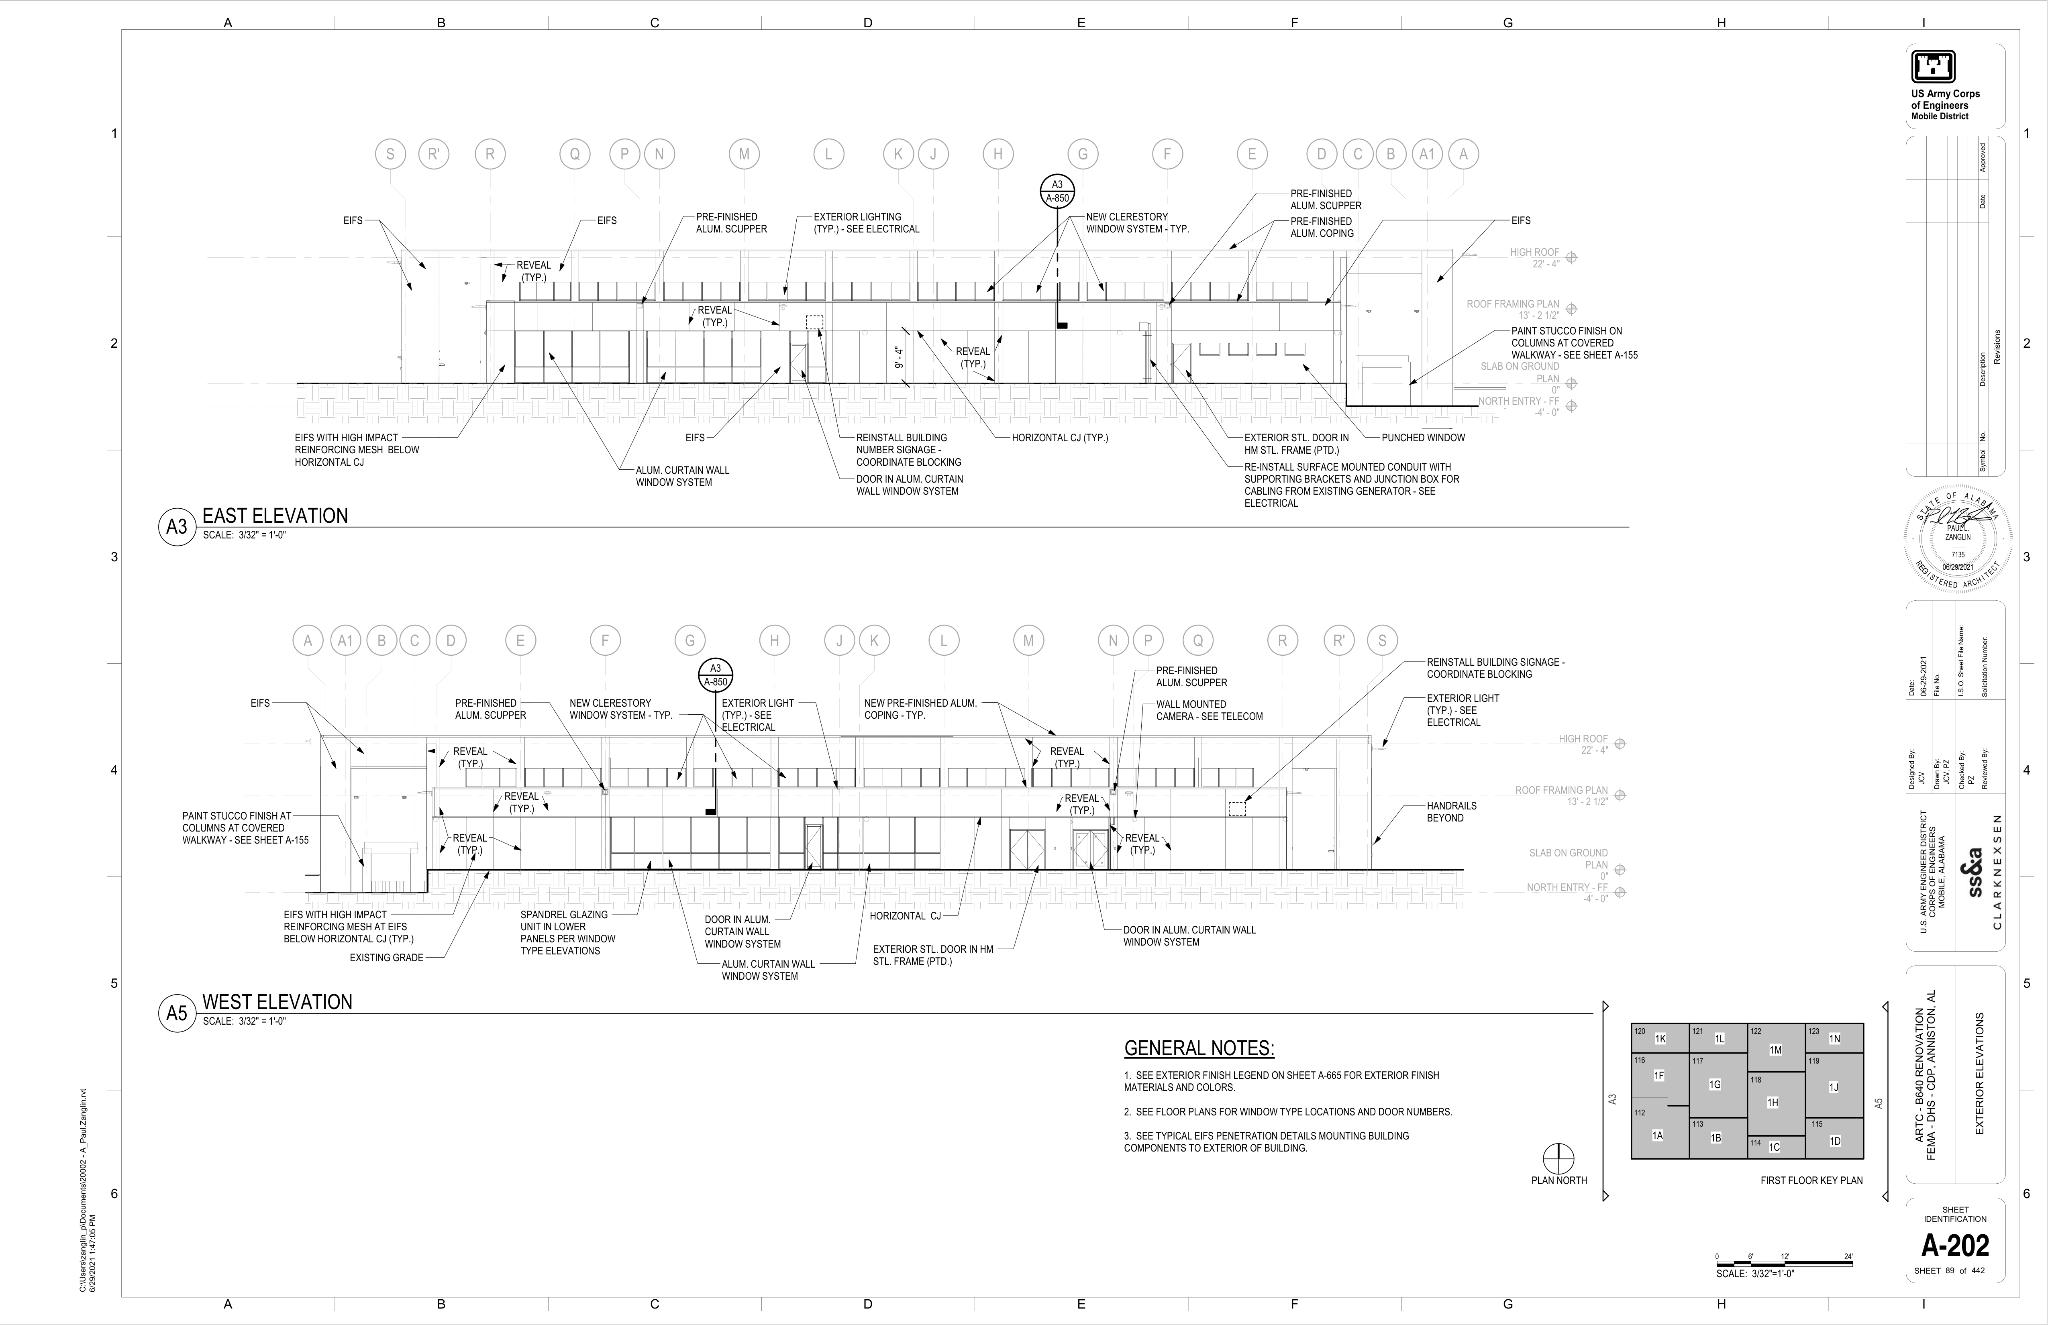detail: (1036, 167, 1083, 335), (692, 652, 729, 819)
title: (151, 981, 394, 1040), (151, 493, 371, 556)
